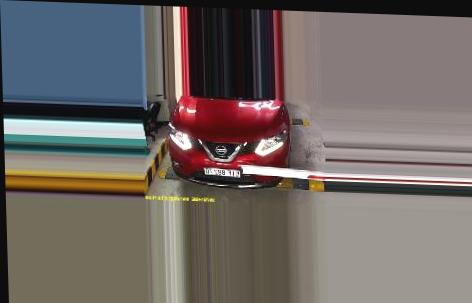License_Plate: (202, 165, 239, 179)
